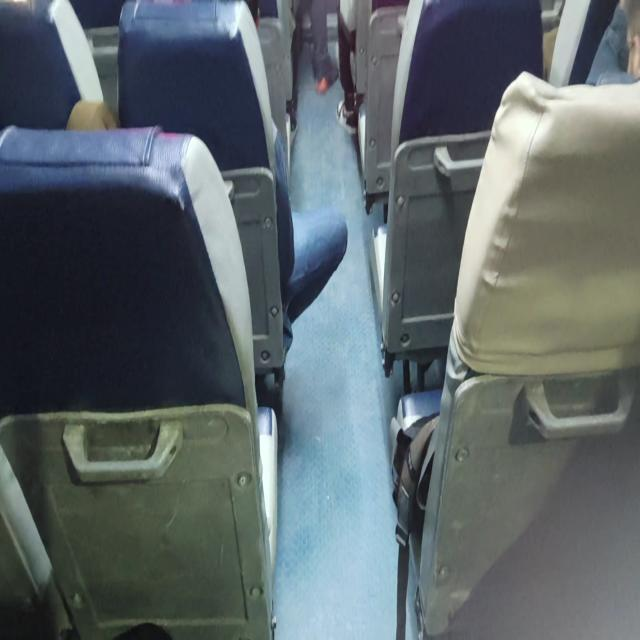person: (397, 0, 639, 636), (65, 0, 348, 412), (286, 0, 339, 137), (336, 0, 371, 136), (595, 0, 639, 85), (620, 0, 640, 82)
